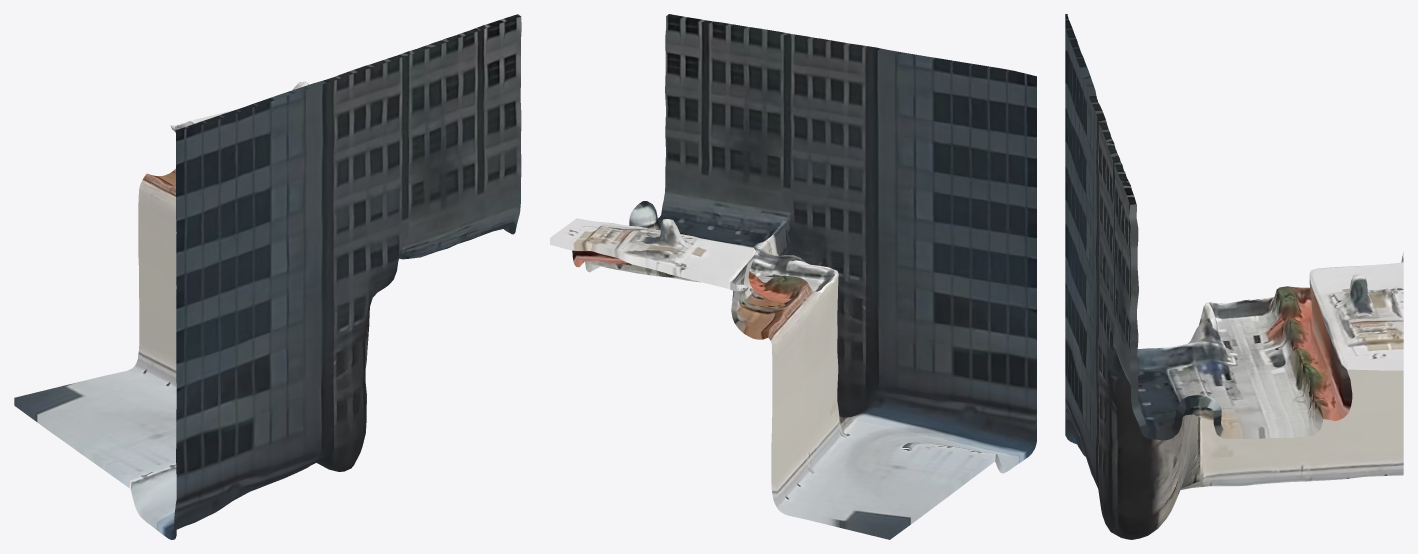
Rendered from z20-167774-405233-h0-yup-uvflip-v3-world.glb.
The picture shows the model from 3 angles, left to right: view 1: azimuth 30°, elevation 25°; view 2: azimuth 150°, elevation 25°; view 3: azimuth 270°, elevation 25°; orthographic projection. The views are drawn at different scales.
Bounding box in the file's own units: 30.16 × 31.76 × 22.6.
Materials: 1 (1 with a texture image).
